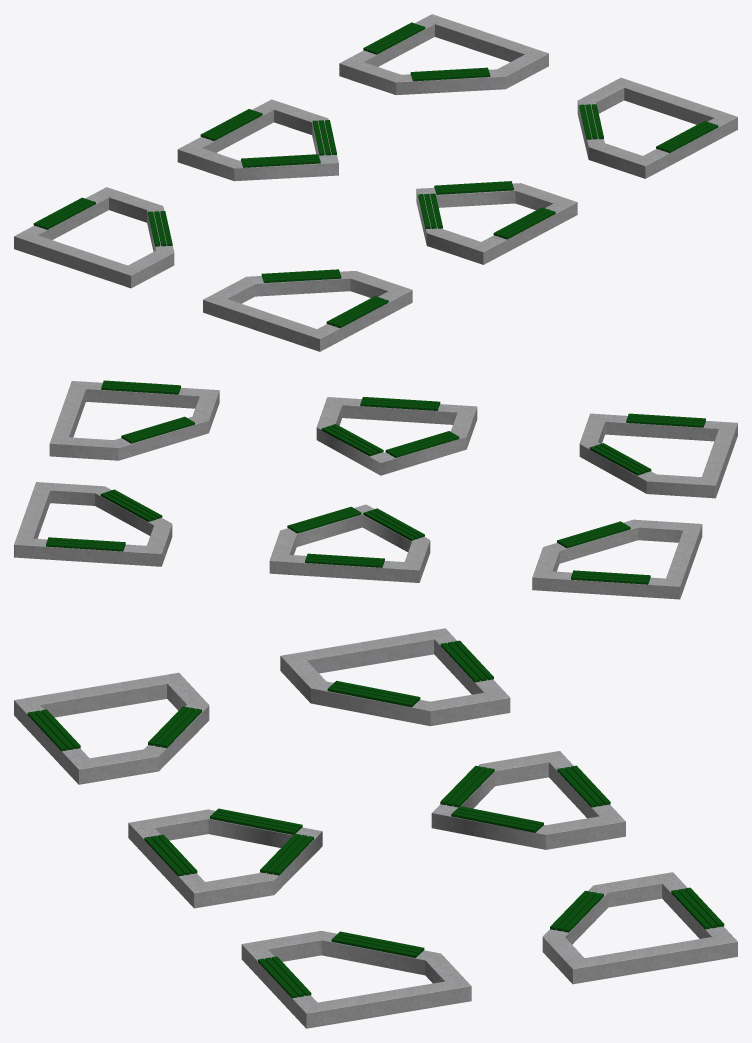
File: alter_markt_benchesnew.FBX
3 views of the same model, one above another, from view 1: azimuth 30°, elevation 25°; view 2: azimuth 150°, elevation 25°; view 3: azimuth 270°, elevation 25° (orthographic). The views are drawn at different scales.
Parts seen in each view (by area): view 1: alter_markt_benchA006, Box631, Box629, Box634, Box626, Box632, Box630, Box623, Box628, Box635, Box625, Box624 (+3 smaller); view 2: alter_markt_benchA006, Box630, Box623, Box625, Box628, Box635, Box632, Box633, Box636, Box627, Box624, Box631 (+3 smaller); view 3: alter_markt_benchA006, Box636, Box624, Box633, Box627, Box632, Box629, Box625, Box635, Box634, Box631, Box630 (+3 smaller).
Boxes of the visible parts, bbox=[...] form: alter_markt_benchA006: bbox=[14, 14, 737, 351]; Box631: bbox=[410, 67, 490, 81]; Box629: bbox=[261, 269, 341, 282]; Box634: bbox=[241, 154, 320, 167]; Box626: bbox=[434, 181, 513, 194]; Box632: bbox=[200, 109, 262, 140]; Box630: bbox=[363, 22, 425, 54]; Box623: bbox=[656, 121, 718, 153]; Box628: bbox=[326, 296, 388, 328]; Box635: bbox=[33, 197, 95, 229]; Box625: bbox=[493, 207, 555, 239]; Box624: bbox=[579, 104, 603, 139]; alter_markt_benchA006: bbox=[14, 381, 737, 599]; Box630: bbox=[46, 537, 125, 551]; Box623: bbox=[101, 380, 180, 394]; Box625: bbox=[360, 397, 440, 410]; Box628: bbox=[626, 413, 705, 427]; Box635: bbox=[571, 570, 650, 584]; Box632: bbox=[305, 553, 384, 567]; Box633: bbox=[287, 506, 361, 533]; Box636: bbox=[557, 521, 630, 548]; Box627: bbox=[385, 431, 459, 457]; Box624: bbox=[121, 416, 194, 443]; Box631: bbox=[100, 489, 162, 521]; alter_markt_benchA006: bbox=[14, 628, 737, 1028]; Box636: bbox=[327, 680, 420, 707]; Box624: bbox=[331, 931, 424, 957]; Box633: bbox=[451, 806, 543, 832]; Box627: bbox=[210, 808, 302, 834]; Box632: bbox=[557, 765, 610, 807]; Box629: bbox=[148, 706, 201, 748]; Box625: bbox=[144, 834, 197, 876]; Box635: bbox=[440, 640, 493, 682]; Box634: bbox=[440, 765, 494, 807]; Box631: bbox=[550, 890, 603, 932]; Box630: bbox=[671, 887, 724, 929].
Bounding box in the file's own units: 1766 × 38.16 × 1402.
2 materials, 1 textured.
